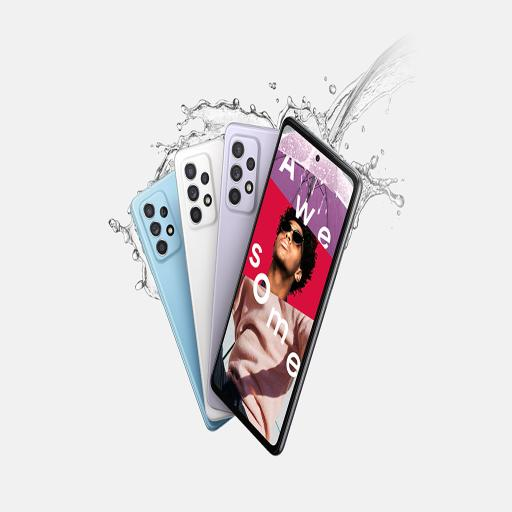phone: (205, 115, 366, 468)
